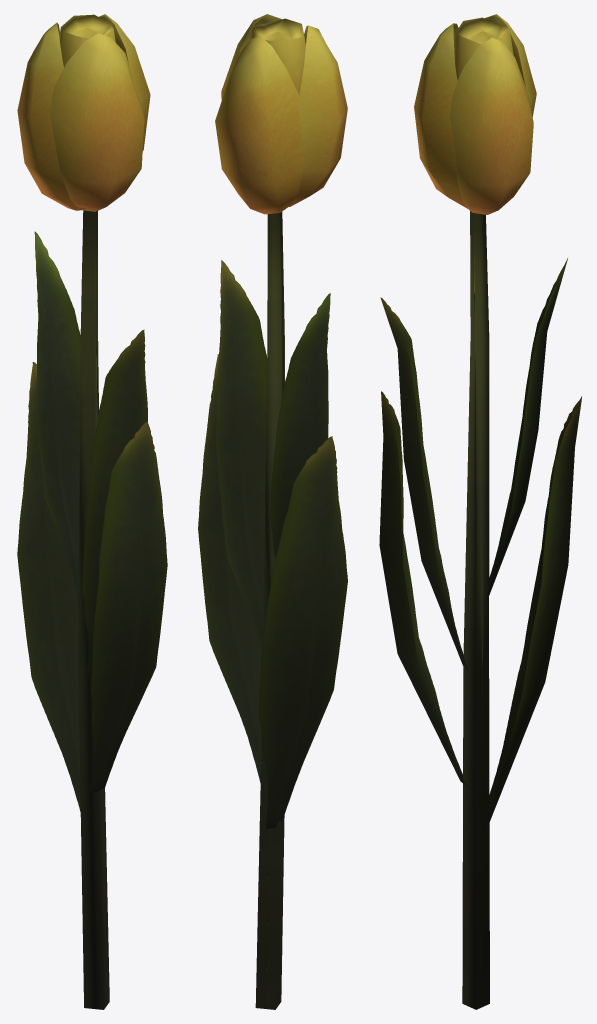
File: Flower_B08.fbx
3 views of the same model, side by side, from view 1: azimuth 30°, elevation 25°; view 2: azimuth 210°, elevation 25°; view 3: azimuth 270°, elevation 25° (orthographic).
Parts seen in each view (by area): view 1: Flower_B08; view 2: Flower_B08; view 3: Flower_B08.
Boxes of the visible parts, x1,y1,x2,y2 form: Flower_B08: (17,14,167,1009); Flower_B08: (198,14,347,1009); Flower_B08: (379,14,581,1009).
Bounding box in the file's own units: 4.77 × 37.82 × 7.15.
